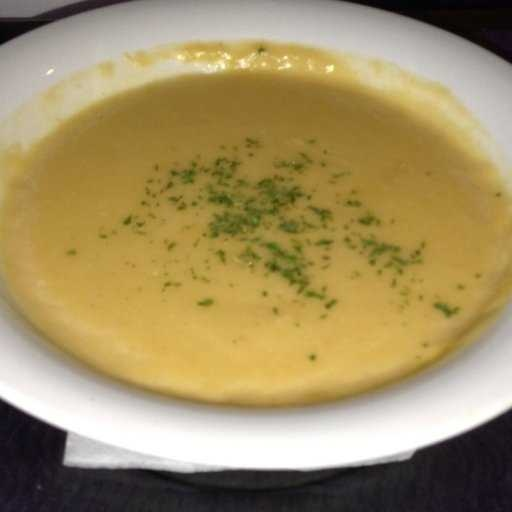soup: (1, 26, 489, 457)
